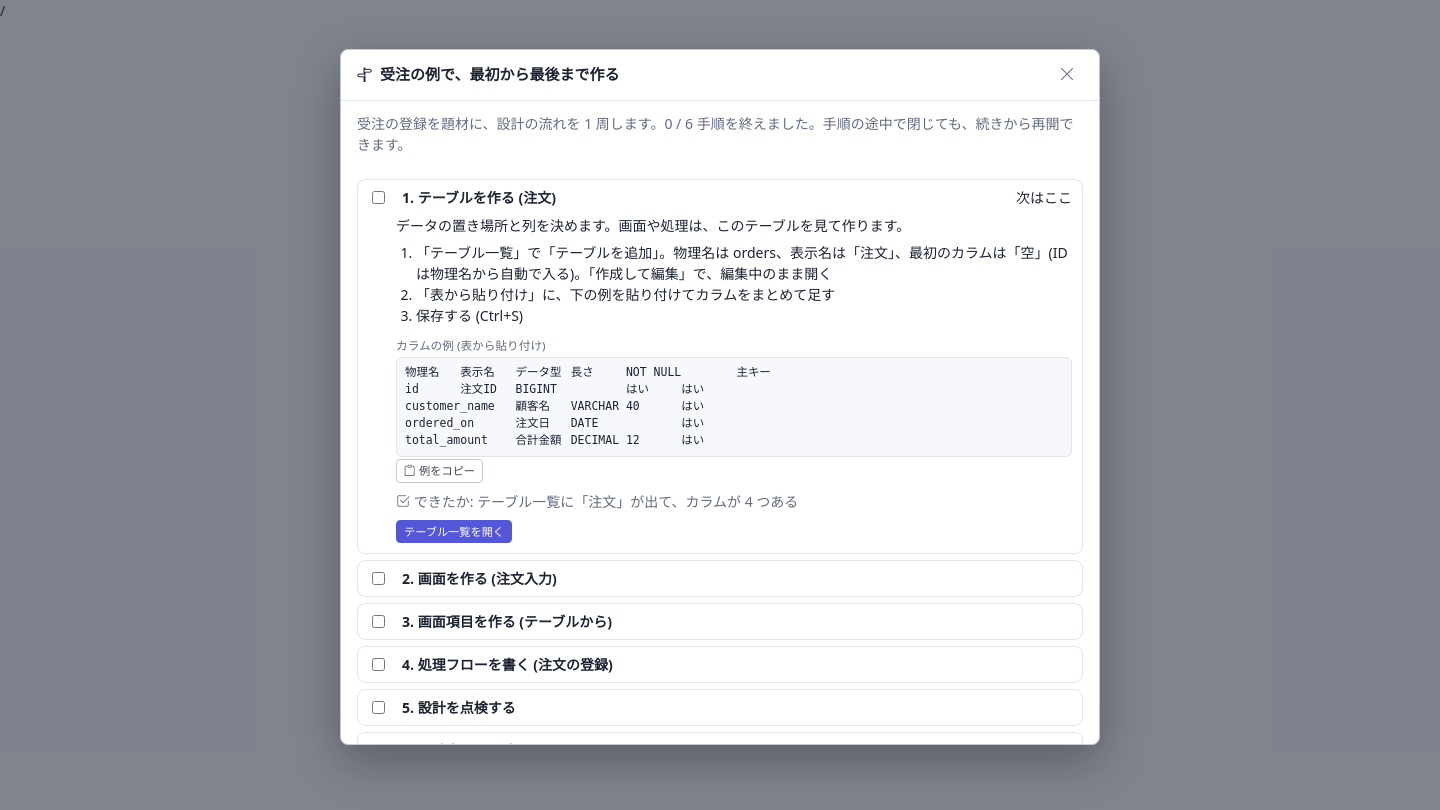
Test: WalkthroughDialog (続編 第 10 弾 #199) › 手順の見出しを押すと、その手順が開く (もう一度で閉じる)
Click the button with test id "wt-open-flow".
click(507, 665)  # box top-left (396, 653), bottom-right (1072, 676)
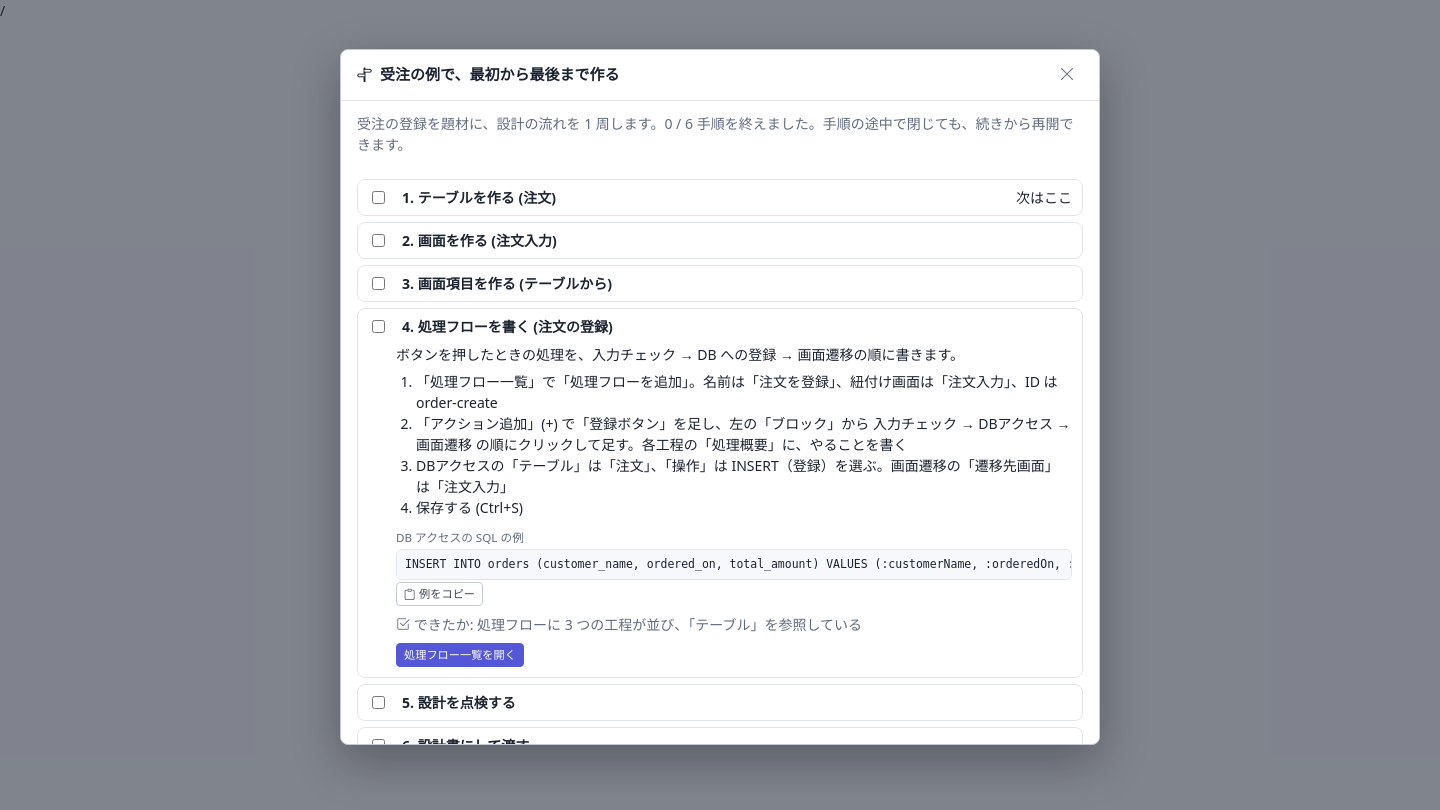
Check: the text with test id "wt-sample-flow" shows "INSERT INTO orders", box top-left (405, 557), bottom-right (1099, 571)
Check: the text with test id "wt-sample-table" is gone
Click the button with test id "wt-open-flow".
click(507, 326)  # box top-left (396, 315), bottom-right (1072, 338)
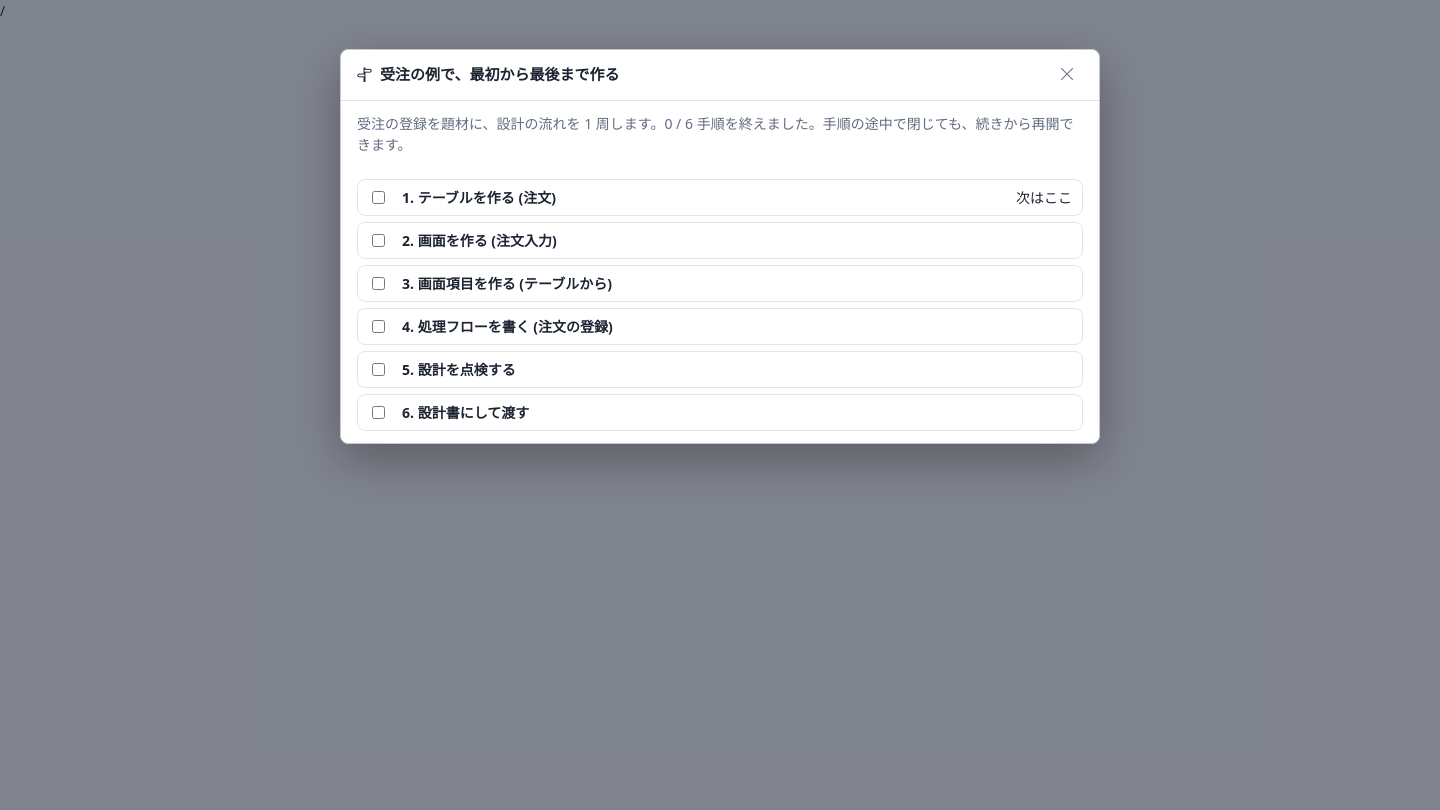
Check: the text with test id "wt-sample-flow" is gone
